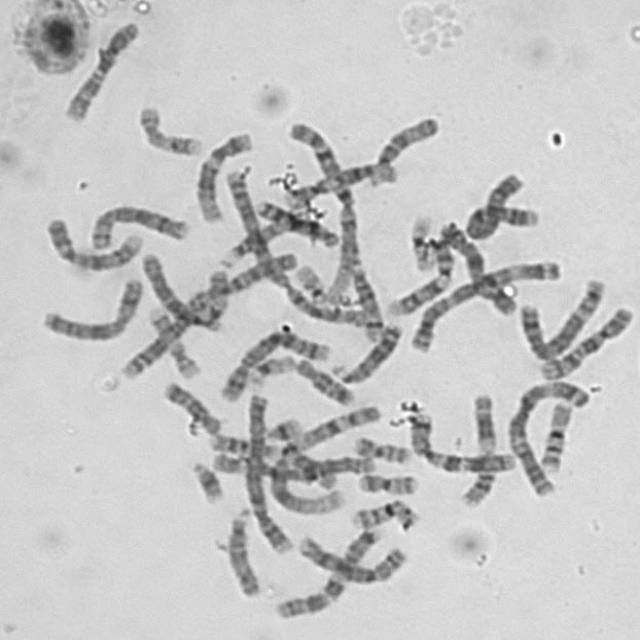A1: (282, 113, 362, 307), (260, 397, 382, 517)
A2: (218, 159, 370, 323), (119, 250, 298, 385)
A3: (403, 255, 564, 352), (501, 373, 592, 497)
B4: (238, 389, 295, 557), (459, 166, 538, 241)
B5: (213, 323, 333, 403), (514, 272, 609, 361)
C10: (57, 15, 142, 124), (532, 300, 635, 382)
C11: (453, 394, 506, 512), (203, 426, 316, 474)
C12: (277, 155, 399, 209), (190, 125, 256, 224)
C6: (136, 248, 227, 334), (202, 446, 380, 484)
C7: (267, 521, 386, 622), (404, 407, 518, 474)
C8: (291, 529, 408, 584), (82, 197, 192, 251)
C9: (379, 230, 458, 318), (38, 211, 145, 272)
D13: (326, 316, 404, 385), (248, 194, 341, 250)
D14: (215, 212, 302, 272), (346, 260, 386, 342)
D15: (364, 109, 442, 187), (220, 502, 262, 599)
E16: (533, 394, 575, 475), (344, 493, 418, 531)
E17: (142, 301, 201, 380), (130, 99, 204, 158)
E18: (156, 375, 223, 436), (289, 352, 357, 407)
F19: (241, 349, 298, 389), (402, 208, 436, 273)
F20: (348, 430, 412, 466), (352, 467, 420, 496)
G21: (184, 454, 226, 505), (260, 411, 304, 443)
G22: (280, 447, 334, 492), (290, 258, 334, 306)
X: (431, 215, 522, 318), (34, 270, 146, 343)
